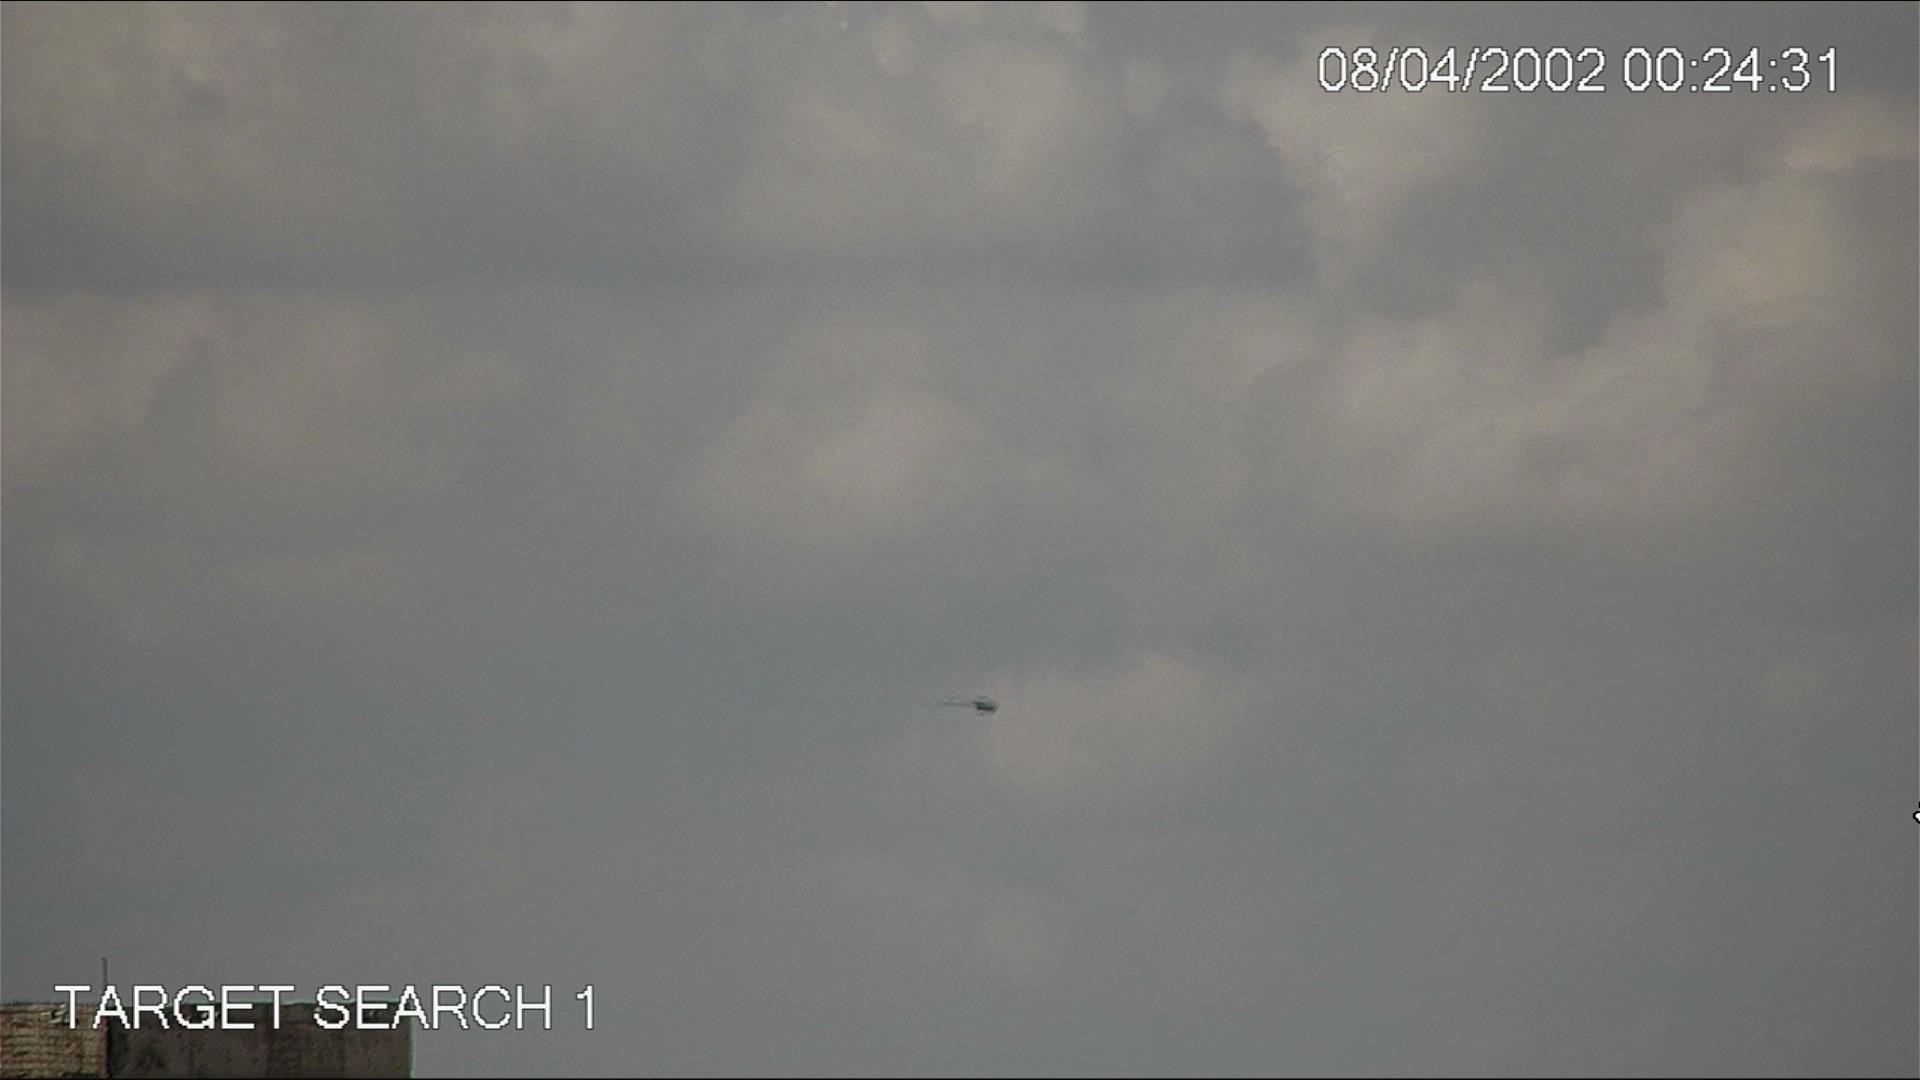SU_30: (936, 684, 1002, 716)
